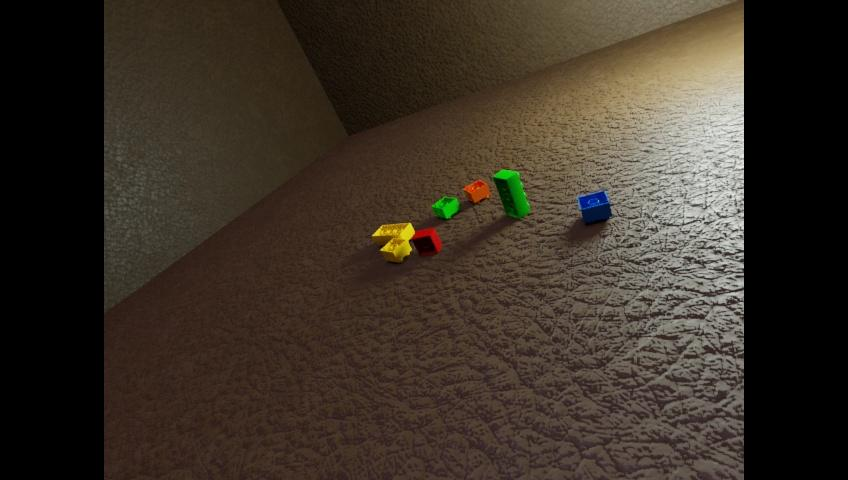2x2_blue: (577, 190, 611, 223)
2x2_green: (431, 196, 459, 219)
2x2_orange: (463, 179, 489, 203)
2x2_red: (411, 227, 441, 255)
2x2_yellow: (380, 237, 410, 262)
4x2_green: (492, 169, 528, 218)
4x2_yellow: (372, 222, 414, 244)
